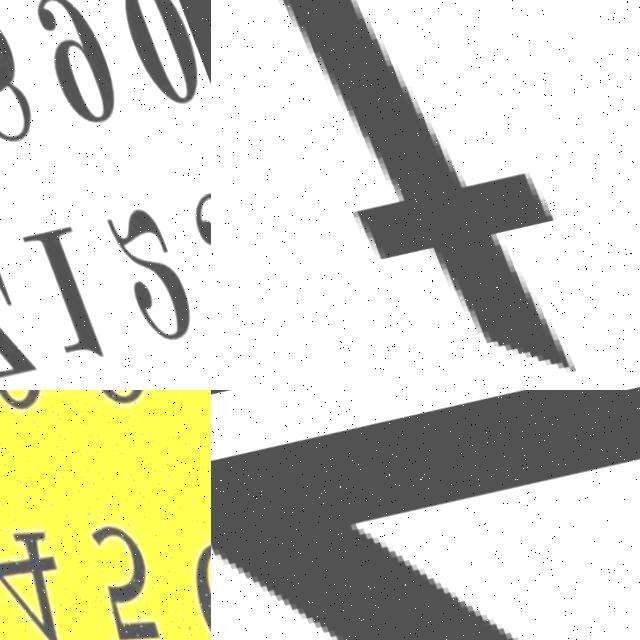0: (101, 0, 211, 128), (44, 390, 186, 430)
1: (9, 197, 128, 380)
2: (88, 183, 208, 354)
3: (172, 157, 211, 323)
4: (0, 491, 103, 640)
5: (44, 485, 200, 640)
6: (144, 501, 211, 640)
8: (0, 0, 59, 163)
9: (17, 0, 146, 150)
T: (211, 0, 613, 390)
Z: (211, 390, 640, 640)
